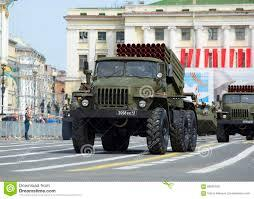MIL_SAM_TEL: (65, 39, 201, 152), (218, 81, 254, 143)
